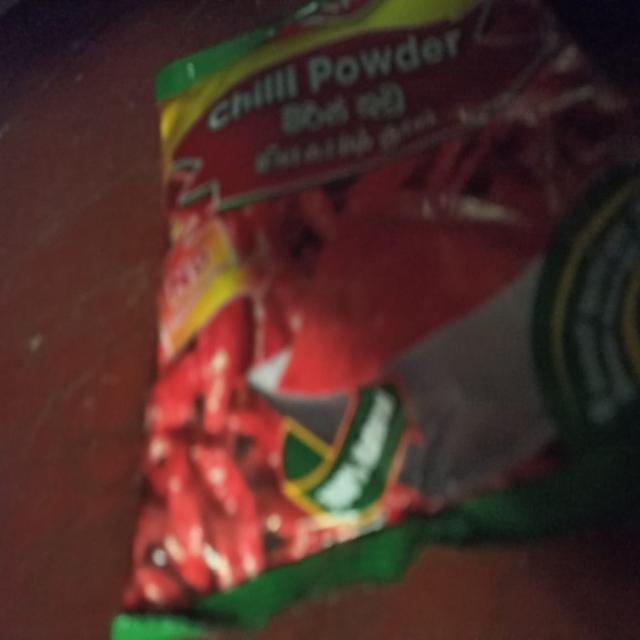Chilli Powder: (124, 0, 636, 640)
